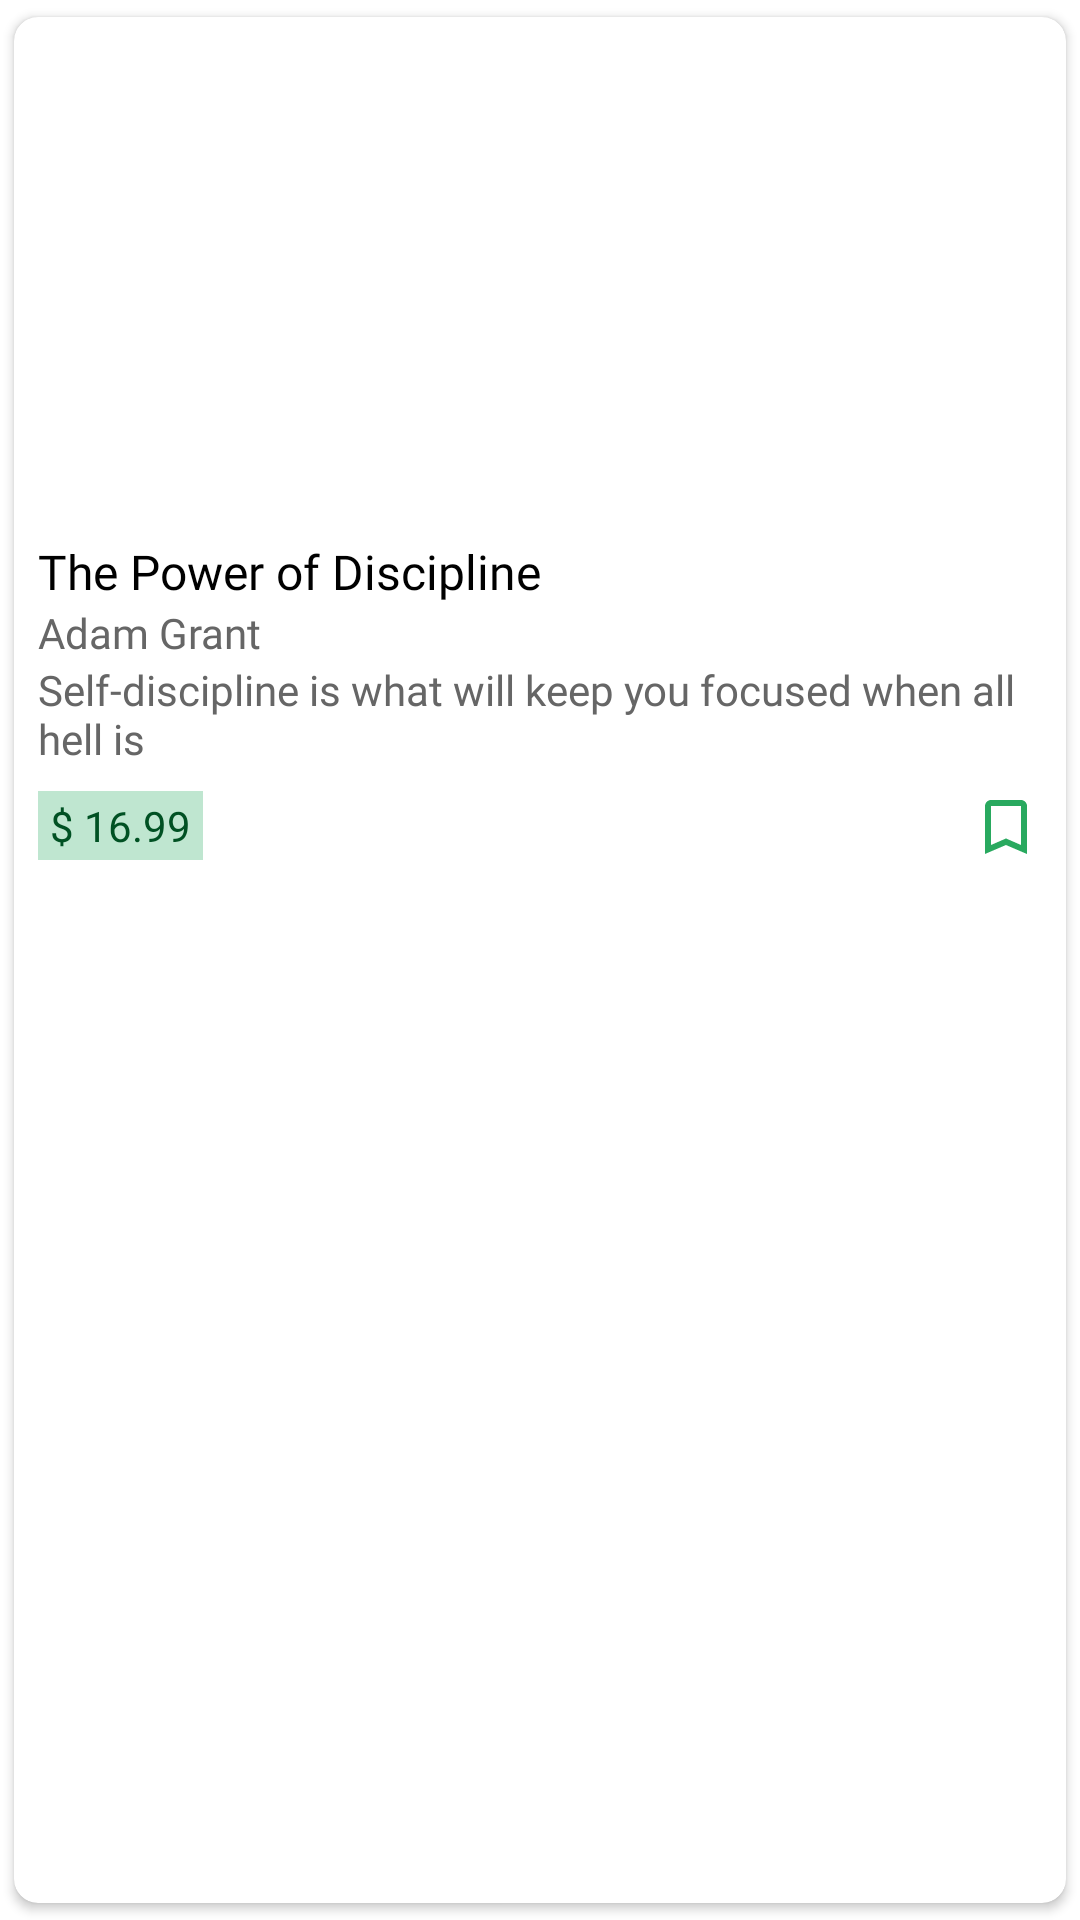

Named icons in this screenshot (1080 × 1920) and their bounding boxes, (x1, y1, x2, y2):
bookmark: (985, 800, 1027, 854)
